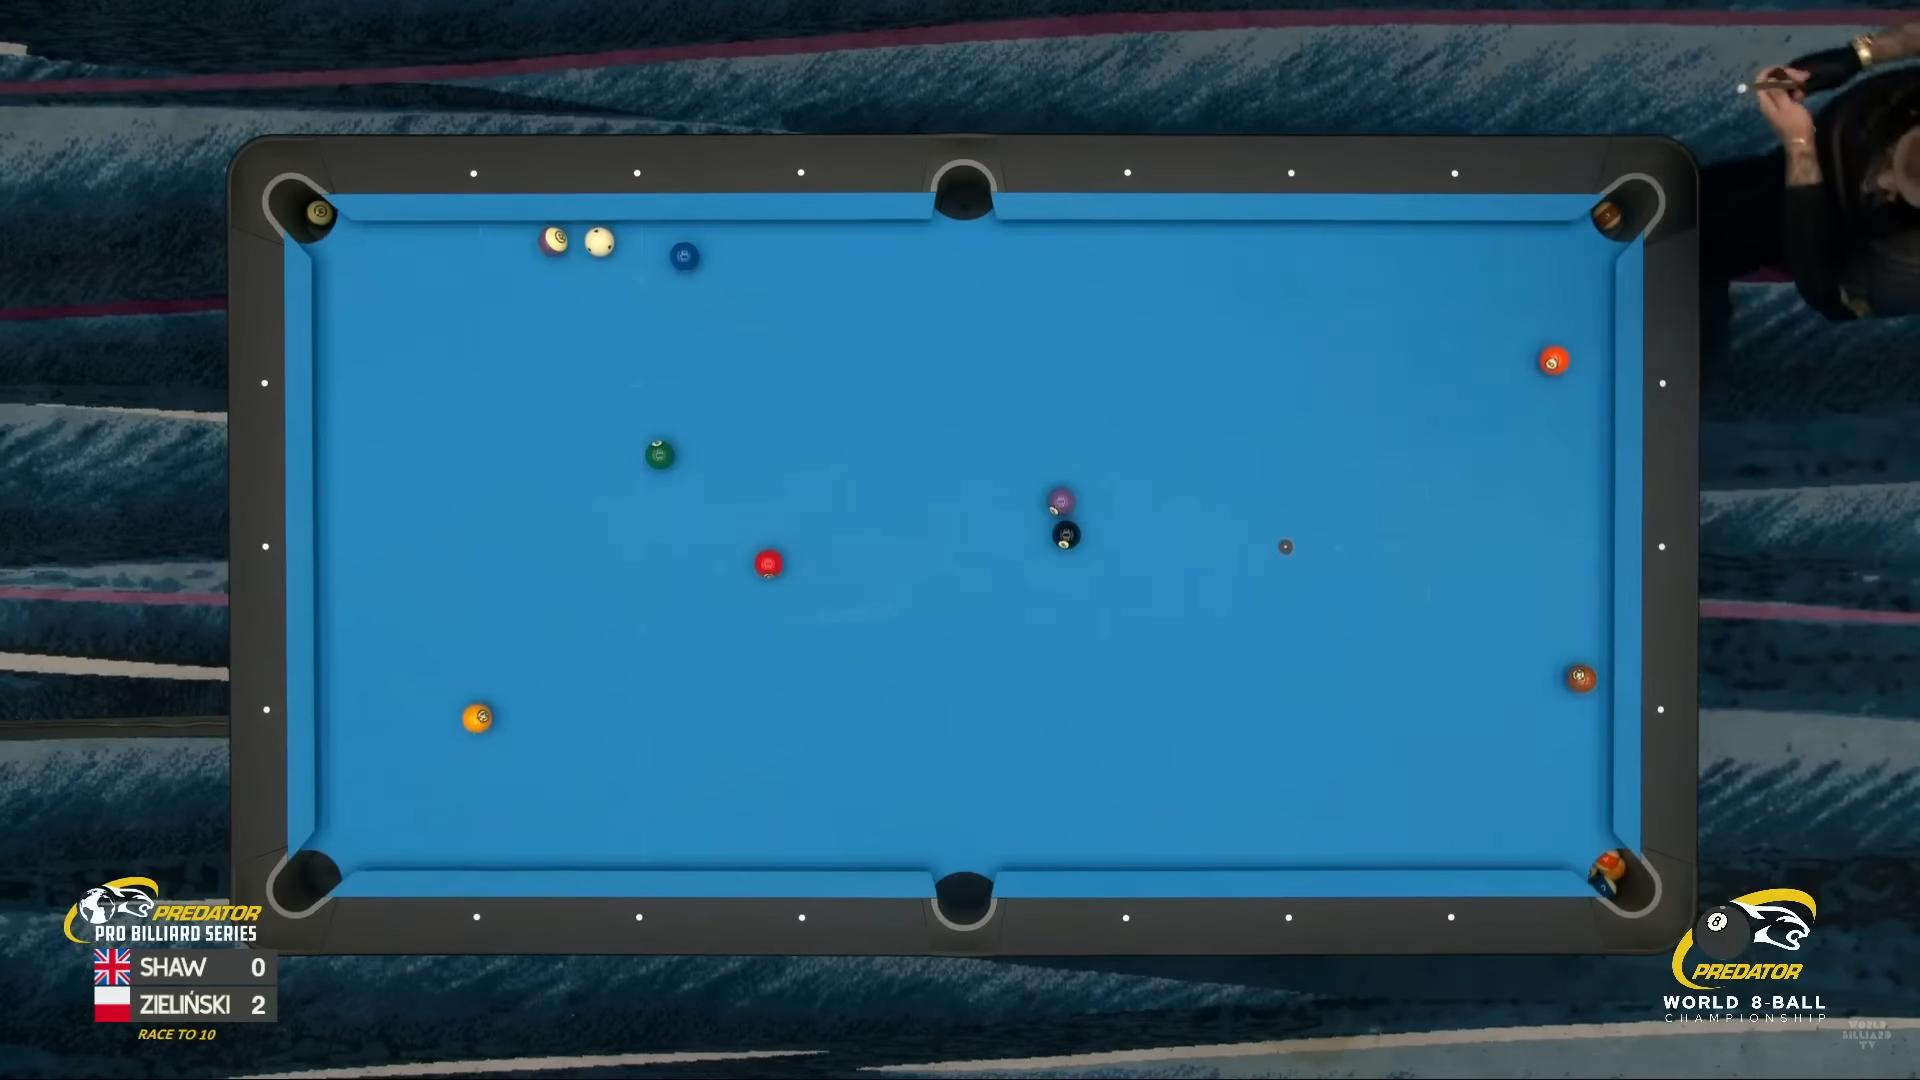Black: (1052, 521, 1081, 550)
Cue: (585, 227, 615, 258)
Dot: (258, 542, 273, 556), (468, 166, 483, 181), (630, 166, 645, 181), (1120, 166, 1134, 181), (1284, 166, 1299, 181), (1448, 166, 1462, 181), (1655, 377, 1669, 392), (1444, 911, 1458, 926), (796, 910, 811, 924), (469, 910, 484, 924), (260, 703, 274, 716), (257, 376, 272, 389), (794, 166, 808, 179), (1655, 703, 1668, 717), (1282, 910, 1295, 924), (1120, 911, 1133, 926), (632, 910, 646, 923), (1655, 539, 1668, 553)
Solid: (462, 703, 493, 733), (1539, 344, 1569, 375), (670, 241, 700, 270), (1047, 487, 1076, 516), (756, 549, 785, 578), (646, 440, 675, 469), (1567, 665, 1597, 692)
Striped: (538, 225, 568, 258)
